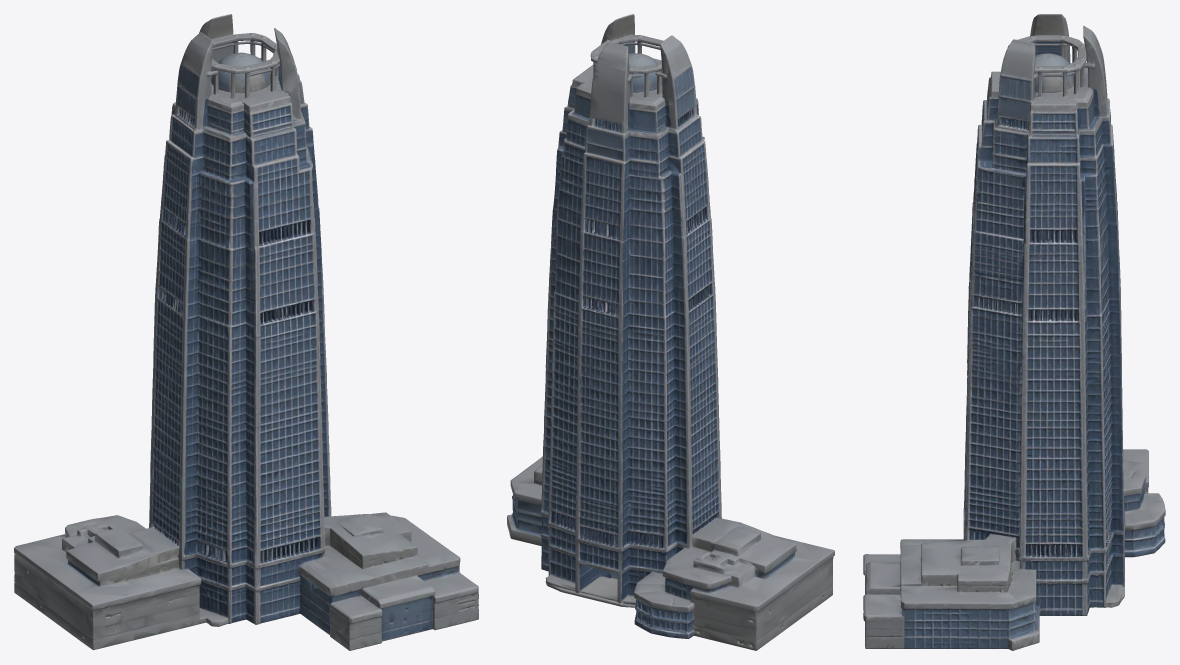
Rendered from ifc2.glb.
3 renders of one model, left to right at view 1: azimuth 30°, elevation 25°; view 2: azimuth 150°, elevation 25°; view 3: azimuth 270°, elevation 25°, orthographic. The views are drawn at different scales.
Parts seen in each view (by area): view 1: tripo_node_0769ad0a-eed9-48af-81c2-58d3b15fcaa8; view 2: tripo_node_0769ad0a-eed9-48af-81c2-58d3b15fcaa8; view 3: tripo_node_0769ad0a-eed9-48af-81c2-58d3b15fcaa8.
Boxes of the visible parts, x1=… form: tripo_node_0769ad0a-eed9-48af-81c2-58d3b15fcaa8: x1=14, y1=14, x2=478, y2=650; tripo_node_0769ad0a-eed9-48af-81c2-58d3b15fcaa8: x1=507, y1=14, x2=834, y2=650; tripo_node_0769ad0a-eed9-48af-81c2-58d3b15fcaa8: x1=863, y1=14, x2=1165, y2=650.
Bounding box in the file's own units: 0.6121 × 0.9999 × 0.4984.
Materials: 1 (1 with a texture image).
